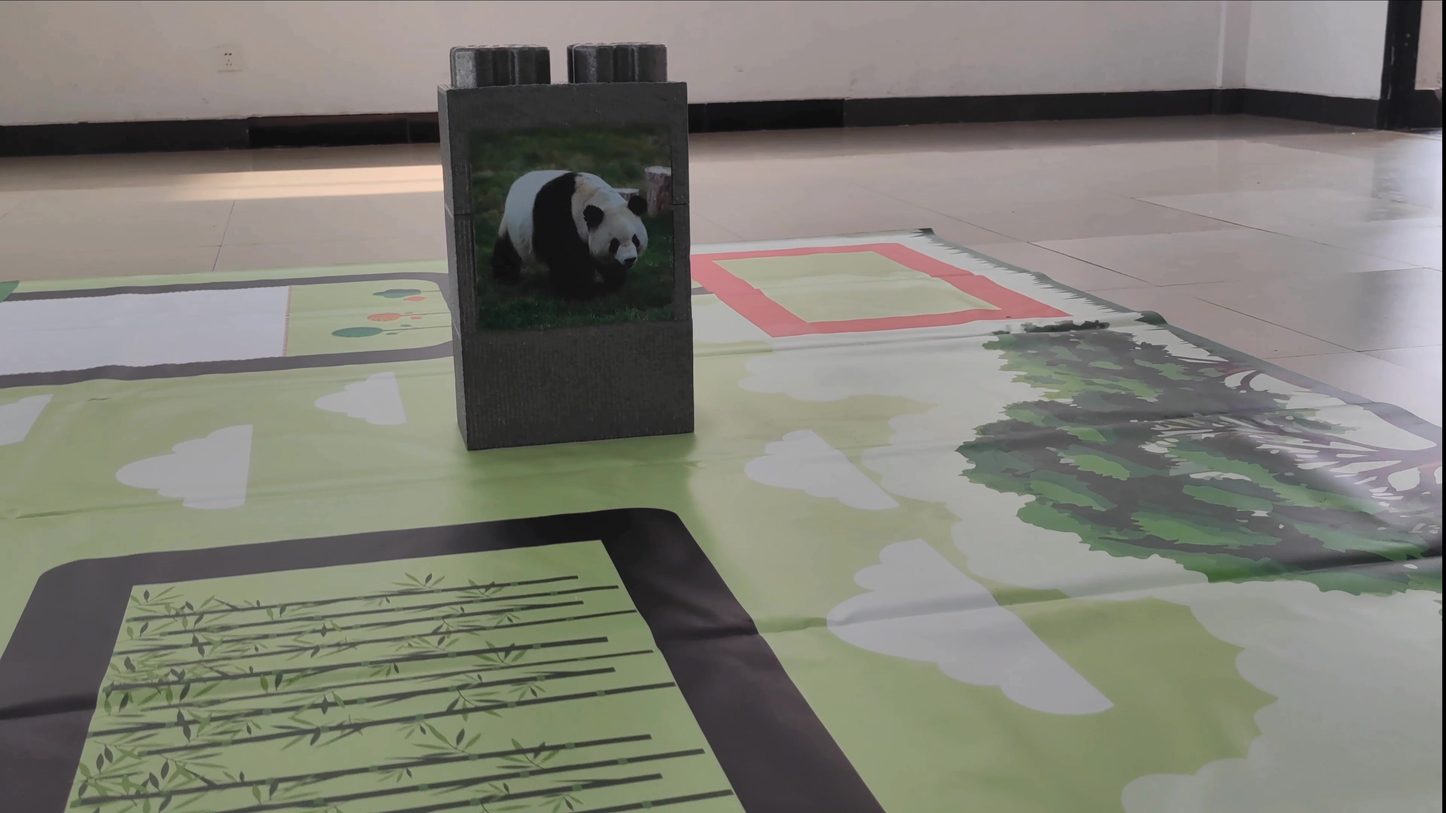panda: (465, 136, 671, 321)
